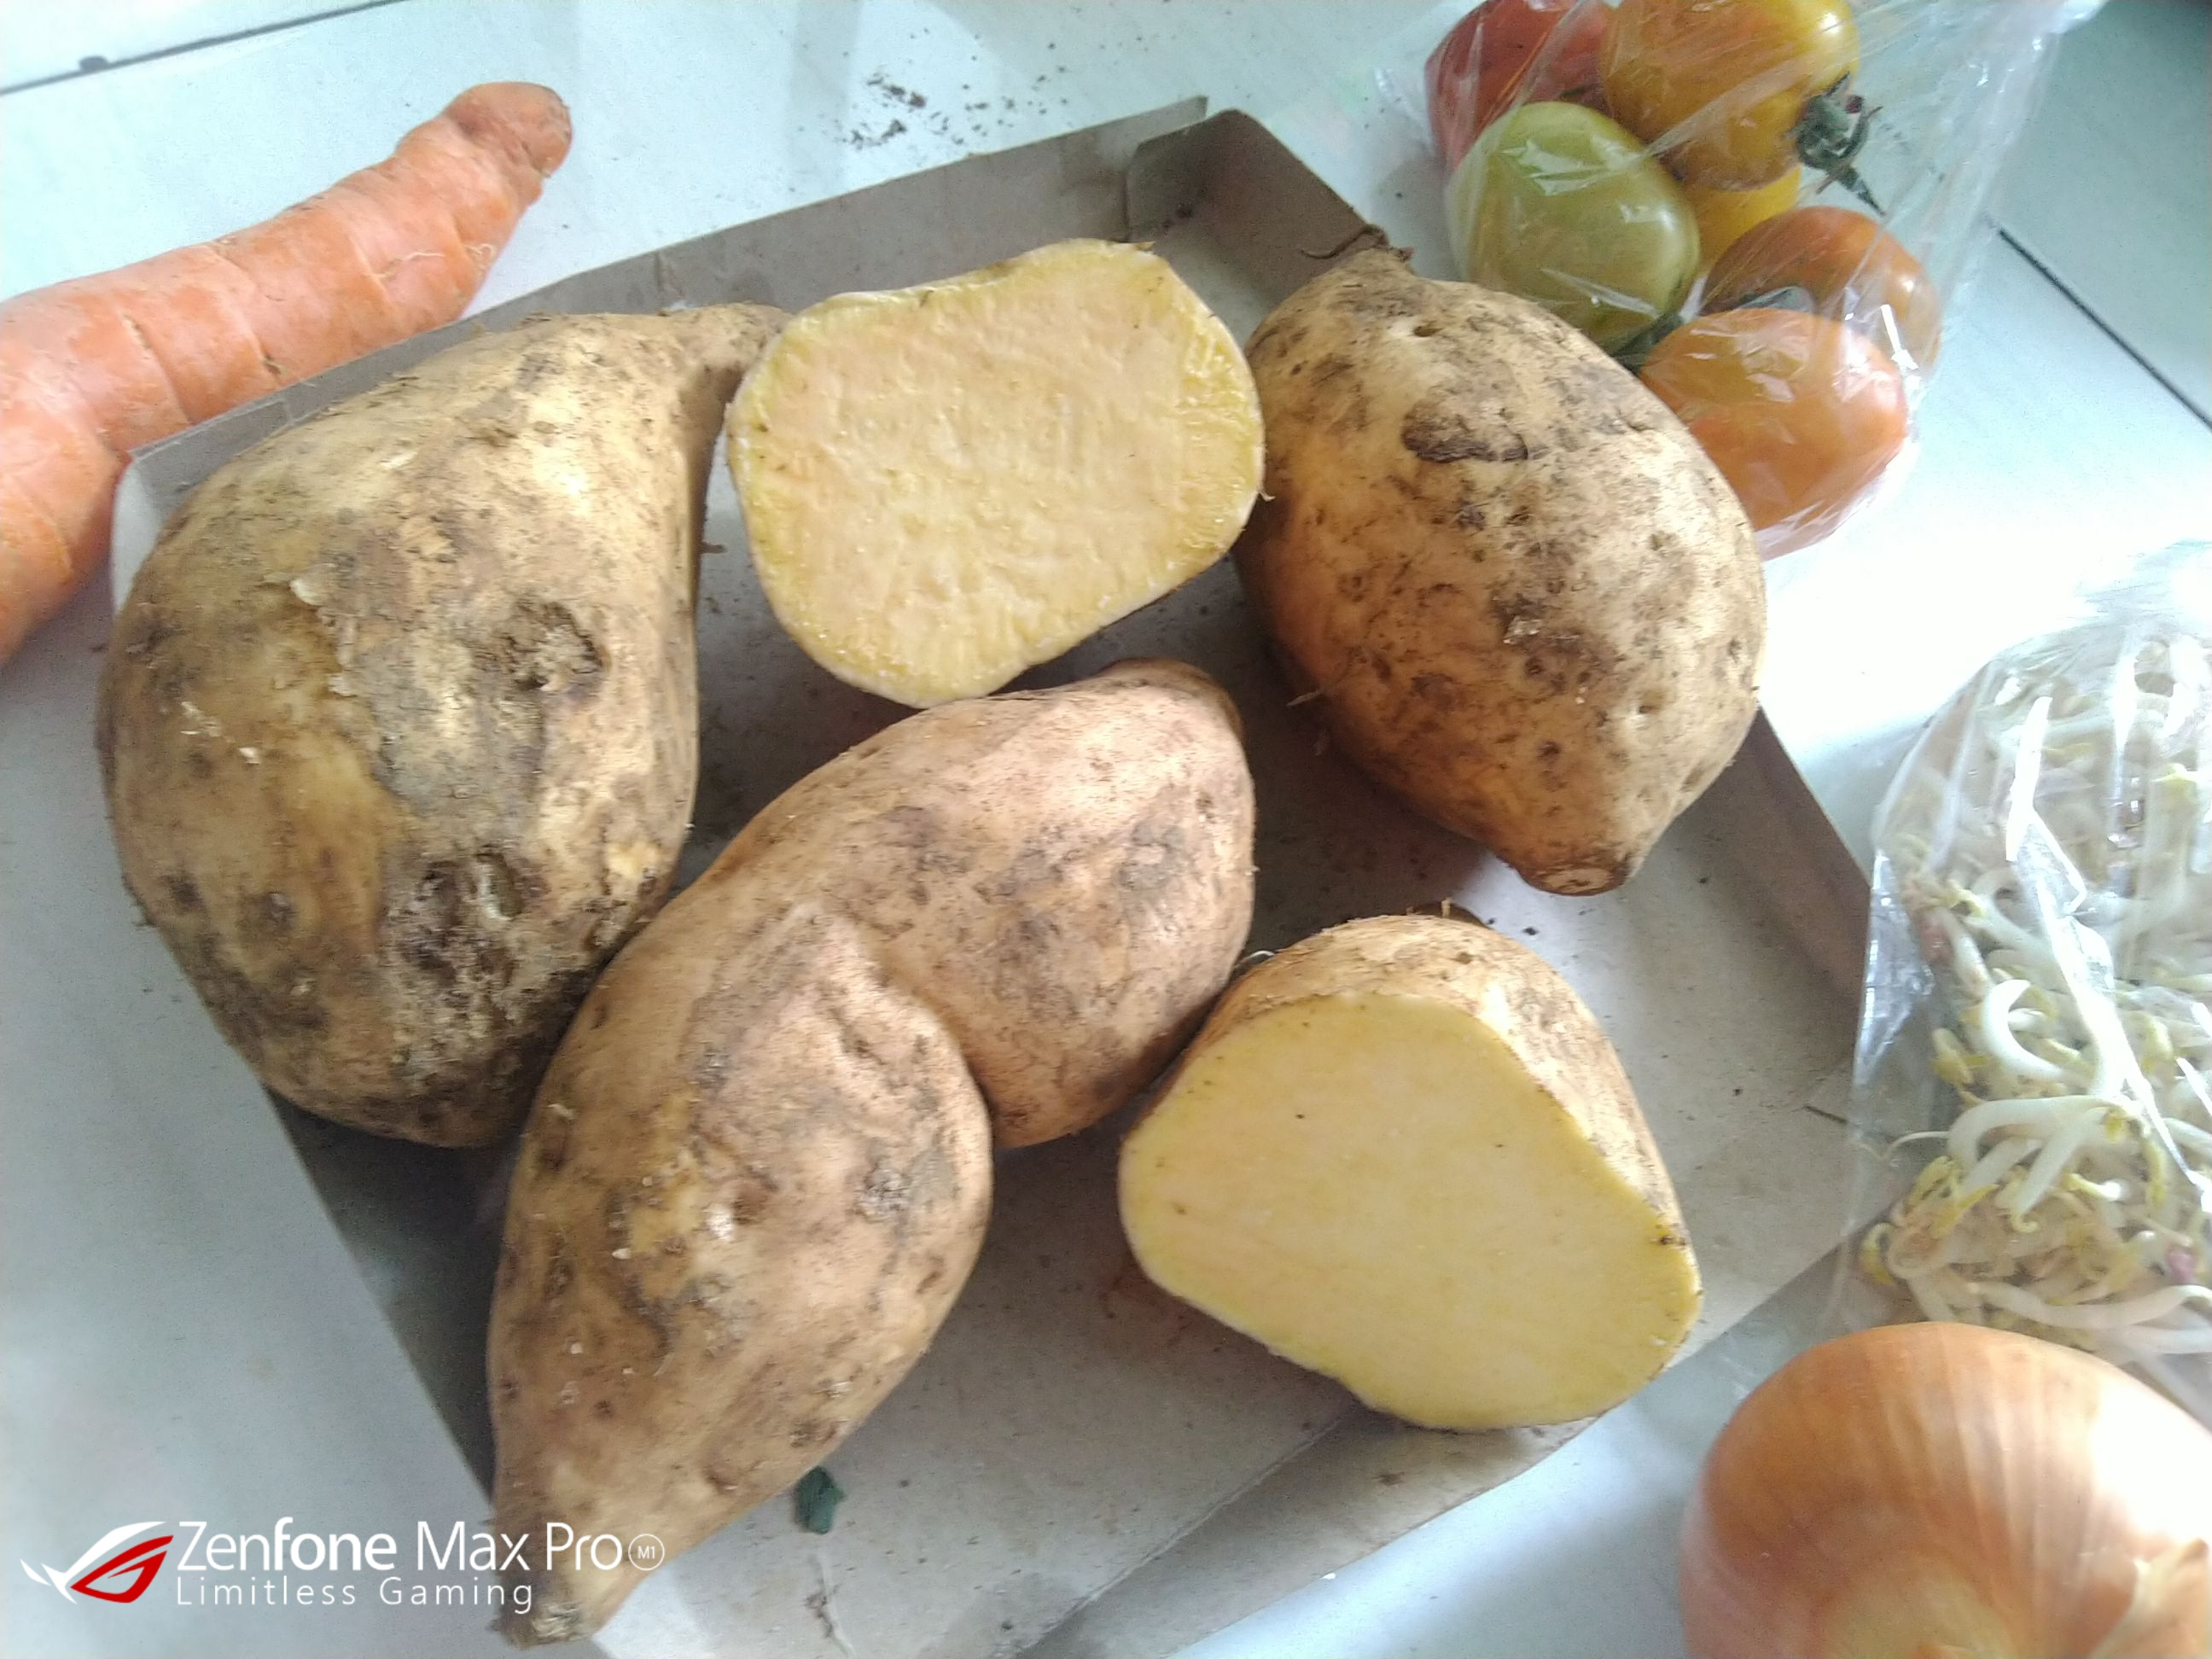ubi kuning: (482, 648, 1259, 1649), (101, 295, 775, 1164), (1242, 239, 1792, 899), (1097, 903, 1756, 1453), (712, 230, 1280, 704)
